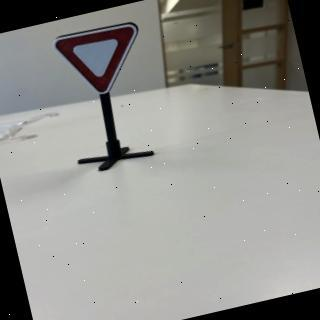sign_yield: (52, 20, 154, 105)
